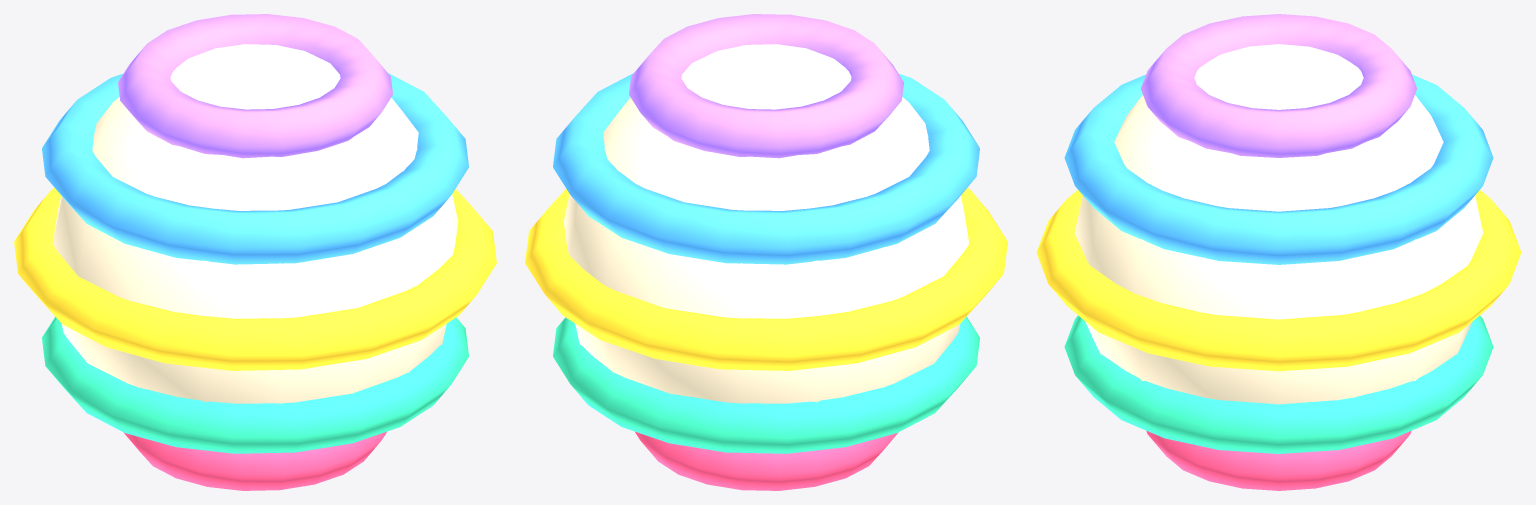
The model's file is CR-fx_gob.glb.
3 renders of one model, left to right at view 1: azimuth 30°, elevation 25°; view 2: azimuth 150°, elevation 25°; view 3: azimuth 270°, elevation 25°, orthographic.
Parts seen in each view (by area): view 1: fx_gob; view 2: fx_gob; view 3: fx_gob.
Boxes of the visible parts, x1,y1,x2,y2 form: fx_gob: (14, 14, 496, 490); fx_gob: (525, 14, 1007, 490); fx_gob: (1036, 14, 1521, 490).
Bounding box in the file's own units: 0.372 × 0.32 × 0.372.
